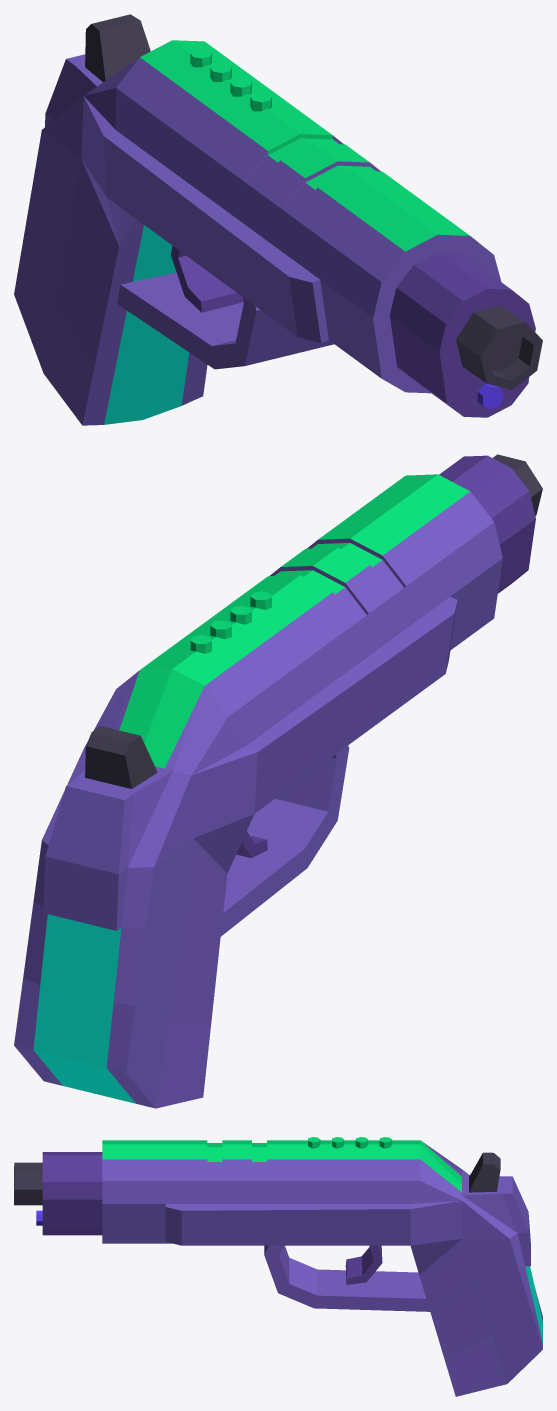
File: pistol.fbx
The picture shows the model from 3 angles, top to bottom: view 1: azimuth 30°, elevation 25°; view 2: azimuth 150°, elevation 25°; view 3: azimuth 270°, elevation 25°; orthographic projection. The views are drawn at different scales.
Visible parts, largest first — view 1: Cylinder, Circle.001, Cylinder.001, Cylinder.003, Cylinder.004, Cylinder.005; view 2: Cylinder, Circle.001, Cylinder.004, Cylinder.001; view 3: Cylinder, Circle.001, Cylinder.001, Cylinder.003, Cylinder.004.
Part boxes in pixels (x1,y1,x2,y2): Cylinder: (14, 14, 535, 425); Circle.001: (117, 272, 333, 369); Cylinder.001: (456, 305, 542, 389); Cylinder.003: (171, 245, 243, 312); Cylinder.004: (190, 49, 271, 111); Cylinder.005: (477, 383, 503, 409); Cylinder: (14, 455, 535, 1108); Circle.001: (220, 745, 349, 936); Cylinder.004: (190, 591, 271, 653); Cylinder.001: (493, 454, 542, 515); Cylinder: (42, 1140, 542, 1396); Circle.001: (264, 1245, 429, 1311); Cylinder.001: (14, 1162, 42, 1205); Cylinder.003: (345, 1245, 382, 1284); Cylinder.004: (308, 1137, 392, 1148).
Size of the model in its own units: 231 by 548 by 1071.
